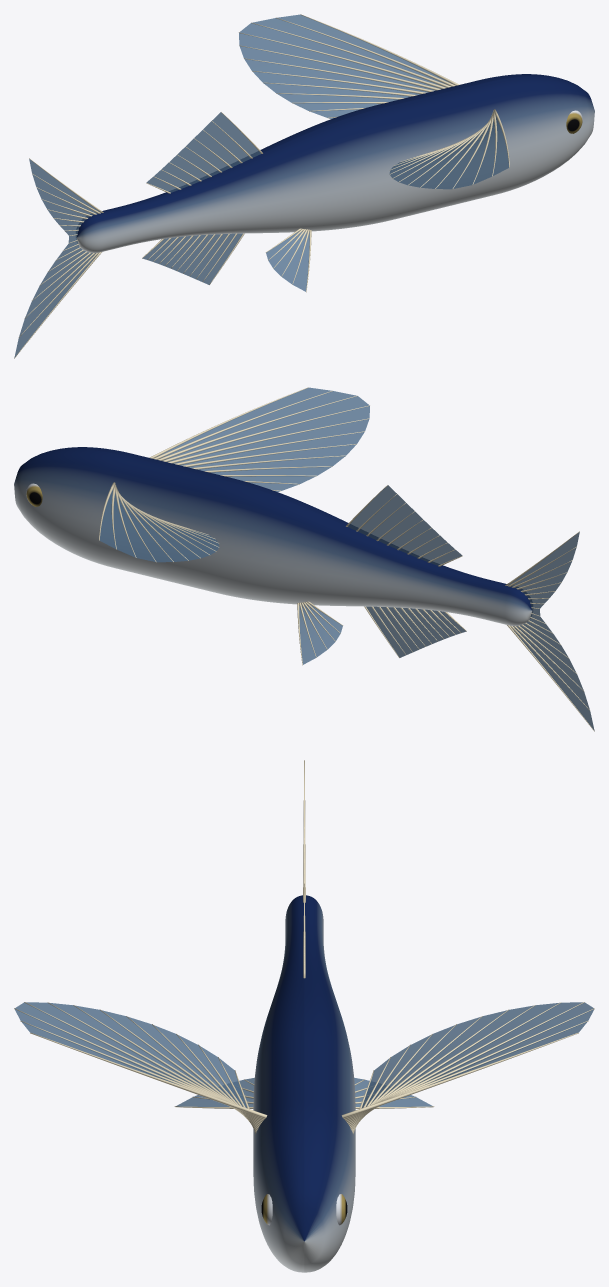
File: ff-zf-chimera.glb
3 renders of one model, top to bottom at view 1: azimuth 30°, elevation 25°; view 2: azimuth 150°, elevation 25°; view 3: azimuth 270°, elevation 25°, orthographic. The views are drawn at different scales.
Visible parts, largest first — view 1: skin_R, pectoral_fin_L, caudal_fin, pectoral_fin_R, dorsal_fin, anal_fin, skin_L, caudal_fin_rays, pelvic_fin_R, anal_fin_rays, dorsal_fin_rays, pelvic_fin_rays_R (+2 smaller); view 2: skin_L, pectoral_fin_R, caudal_fin, pectoral_fin_L, dorsal_fin, anal_fin, skin_R, caudal_fin_rays, pelvic_fin_L, anal_fin_rays, dorsal_fin_rays, pelvic_fin_rays_L (+2 smaller); view 3: skin_L, skin_R, pectoral_fin_L, pectoral_fin_R, pectoral_fin_ray_L_01, pectoral_fin_ray_R_01.
Boxes of the visible parts, x1=… form: skin_R: x1=76, y1=76, x2=594, y2=253; pectoral_fin_L: x1=239, y1=14, x2=451, y2=118; caudal_fin: x1=14, y1=159, x2=100, y2=357; pectoral_fin_R: x1=389, y1=116, x2=509, y2=189; dorsal_fin: x1=146, y1=112, x2=260, y2=192; anal_fin: x1=142, y1=233, x2=242, y2=284; skin_L: x1=76, y1=74, x2=577, y2=243; caudal_fin_rays: x1=14, y1=158, x2=103, y2=358; pelvic_fin_R: x1=266, y1=231, x2=309, y2=291; anal_fin_rays: x1=142, y1=233, x2=244, y2=284; dorsal_fin_rays: x1=146, y1=112, x2=262, y2=193; pelvic_fin_rays_R: x1=265, y1=228, x2=311, y2=292; skin_L: x1=14, y1=449, x2=532, y2=626; pectoral_fin_R: x1=157, y1=387, x2=369, y2=491; caudal_fin: x1=508, y1=532, x2=594, y2=730; pectoral_fin_L: x1=99, y1=489, x2=219, y2=562; dorsal_fin: x1=348, y1=485, x2=462, y2=565; anal_fin: x1=366, y1=606, x2=466, y2=657; skin_R: x1=31, y1=447, x2=532, y2=616; caudal_fin_rays: x1=505, y1=531, x2=594, y2=731; pelvic_fin_L: x1=299, y1=604, x2=342, y2=664; anal_fin_rays: x1=364, y1=606, x2=466, y2=657; dorsal_fin_rays: x1=346, y1=485, x2=462, y2=566; pelvic_fin_rays_L: x1=297, y1=601, x2=343, y2=665; skin_L: x1=304, y1=895, x2=355, y2=1272; skin_R: x1=253, y1=895, x2=304, y2=1272; pectoral_fin_L: x1=362, y1=1002, x2=594, y2=1107; pectoral_fin_R: x1=14, y1=1002, x2=246, y2=1107; pectoral_fin_ray_L_01: x1=341, y1=1032, x2=578, y2=1118; pectoral_fin_ray_R_01: x1=30, y1=1032, x2=267, y2=1118.
Size of the model in its own units: 0.9557 by 0.3099 by 0.6319.
